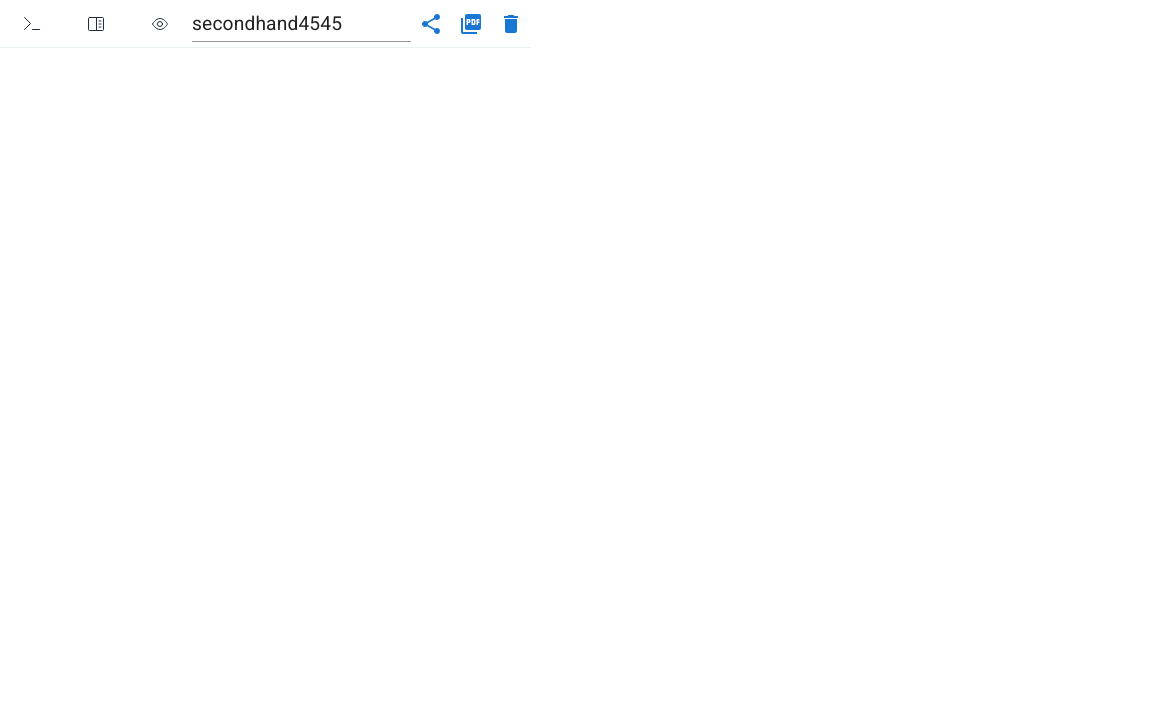
Test: Editor header - shared notes link modal › Editor header - previously created shared notes links displayed
Click the button with test id "shared-note-share-btn".
click(431, 24)  # box [411,4,451,44]
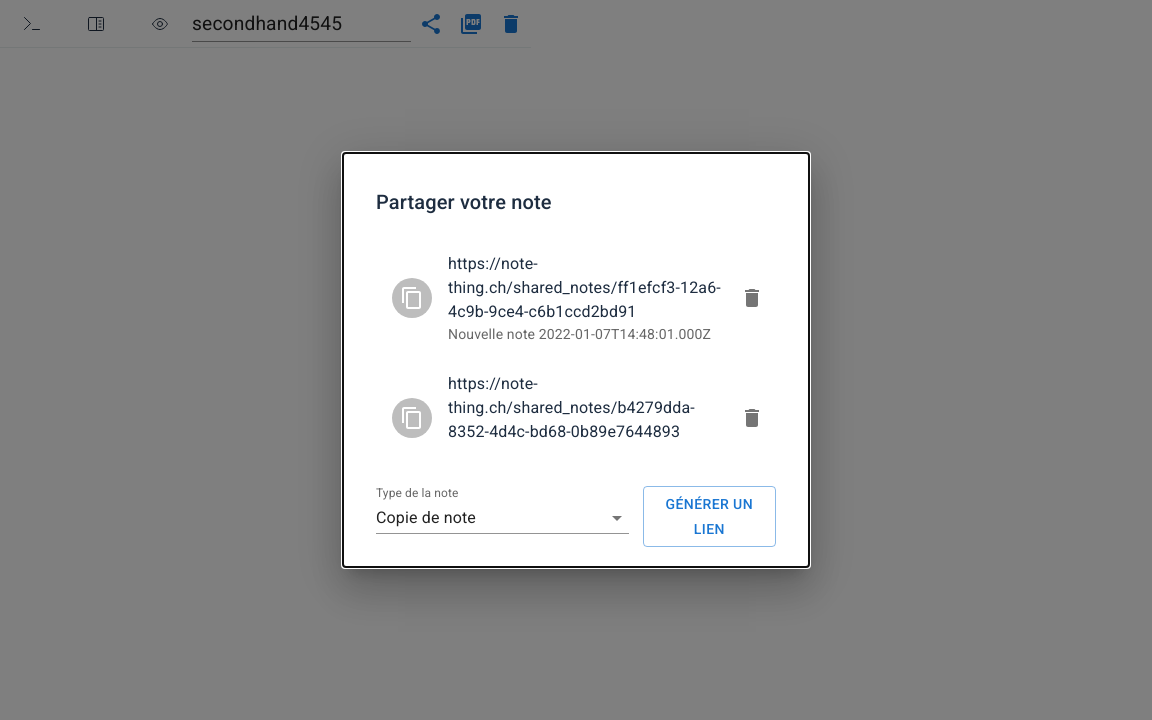
Now the element with test id "shared-note-modal-body" is shown
Now the list with test id "shared-notes-link-list" is shown, box [376,230,776,446]
